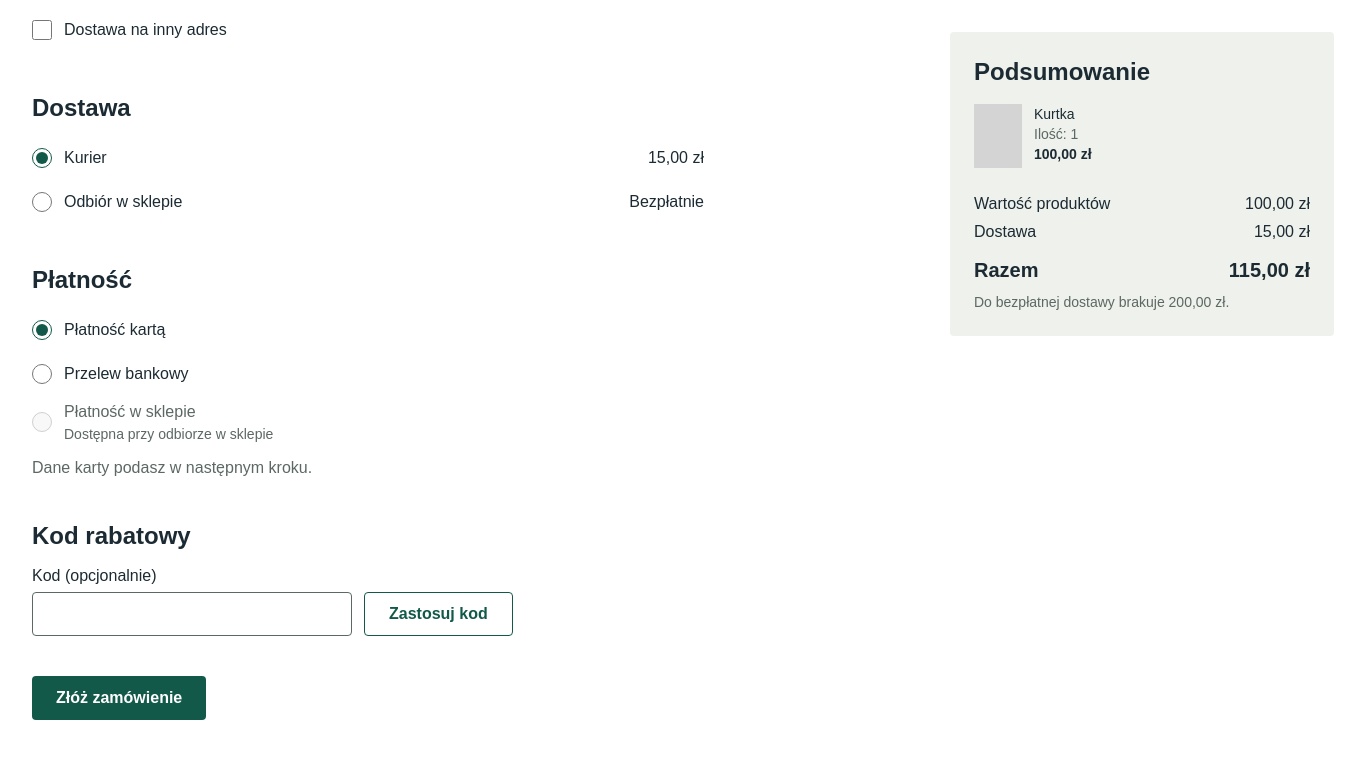
Test case: a refused order › joins the messages of errors.cart into one line
(page scrolled)
Click the button "Złóż zamówienie" at (119,698), box [32,676,206,720]
(page scrolled)
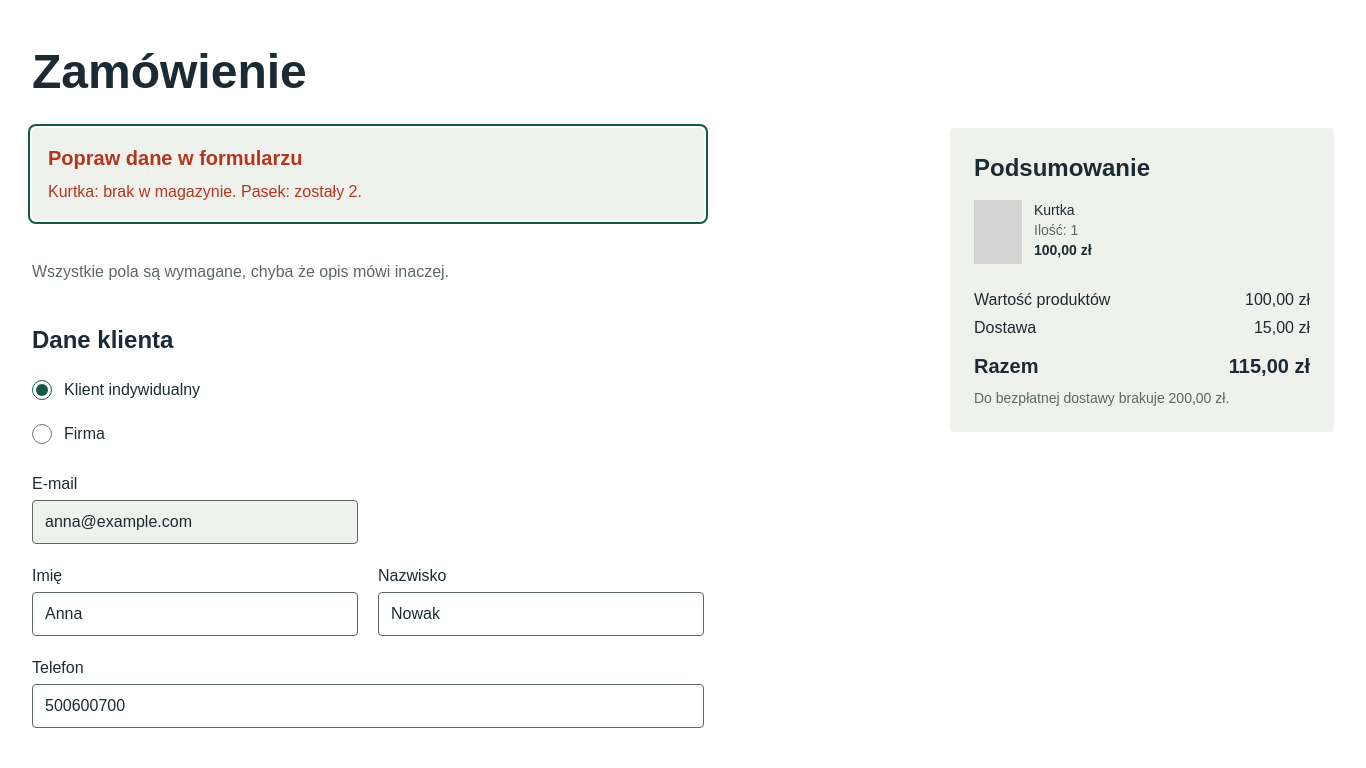
Check: the text "Kurtka: brak w magazynie. Pasek: zostały 2." is shown, box [48,183,362,200]
